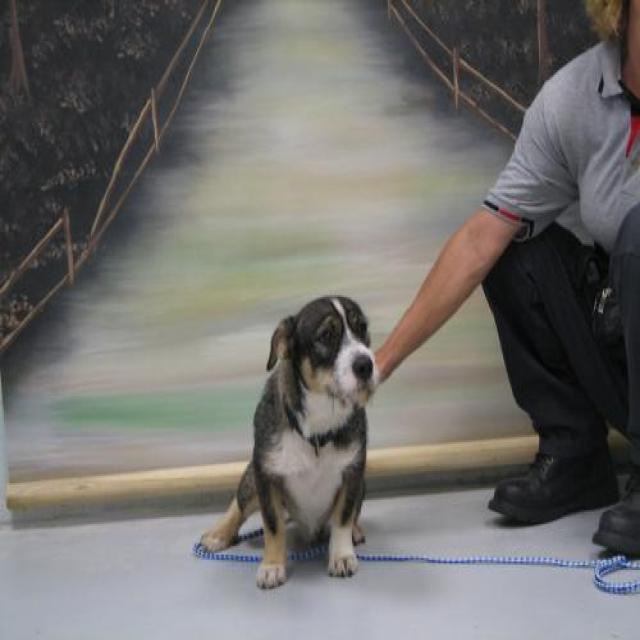Dogs: (198, 292, 379, 589)
